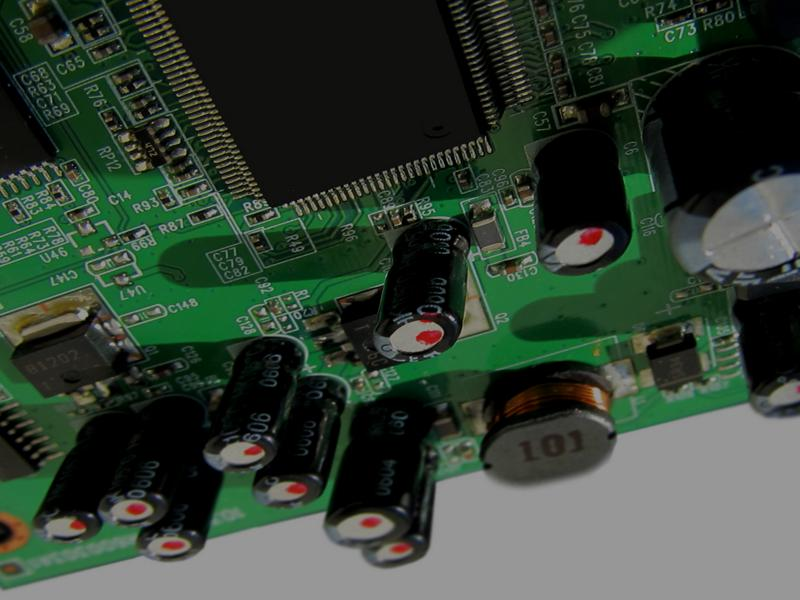Capacitor: (638, 44, 800, 288), (322, 399, 435, 553), (96, 389, 206, 535), (530, 124, 634, 278), (201, 334, 308, 479), (372, 216, 475, 366), (32, 410, 132, 550), (252, 376, 349, 513), (727, 285, 800, 421), (362, 444, 441, 569), (136, 467, 224, 565)
